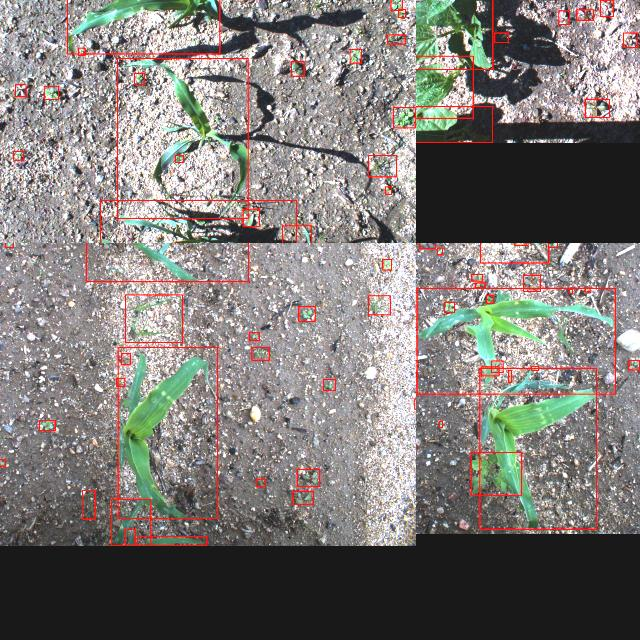crop: (417, 287, 615, 393), (118, 58, 248, 218), (479, 367, 596, 529), (118, 347, 218, 518), (100, 199, 296, 243), (66, 0, 219, 53), (86, 243, 248, 281), (416, 0, 492, 69), (416, 56, 473, 118), (416, 106, 492, 142), (111, 499, 151, 545), (480, 243, 548, 262), (137, 536, 207, 546), (282, 225, 311, 243), (125, 529, 135, 545)
weed: (126, 294, 182, 342), (471, 452, 522, 494), (368, 155, 396, 177), (393, 106, 415, 128), (585, 99, 609, 117), (296, 468, 320, 486), (82, 489, 96, 518), (368, 296, 390, 314), (242, 208, 260, 226), (293, 491, 313, 504), (524, 274, 540, 290), (600, 0, 614, 16), (624, 32, 638, 48), (299, 306, 315, 320), (252, 346, 268, 359), (292, 60, 304, 76), (44, 85, 58, 98), (387, 34, 405, 44), (576, 9, 594, 19), (481, 366, 499, 376), (350, 48, 362, 62), (558, 10, 570, 24), (39, 420, 55, 430), (494, 32, 508, 42), (16, 84, 27, 96), (323, 378, 335, 389), (134, 72, 144, 84), (382, 258, 392, 270), (492, 360, 502, 372), (628, 360, 640, 370), (14, 150, 24, 160), (444, 302, 454, 312), (391, 0, 402, 9), (122, 352, 130, 363), (249, 332, 259, 340), (256, 478, 266, 486), (420, 243, 436, 248), (398, 9, 406, 17), (175, 154, 183, 162), (117, 378, 125, 386), (486, 294, 494, 302), (472, 274, 482, 280), (386, 186, 392, 194), (474, 282, 486, 286), (508, 370, 512, 382), (78, 48, 85, 54), (0, 458, 6, 465), (5, 243, 13, 247), (438, 246, 442, 254), (531, 366, 539, 370), (548, 243, 557, 246), (414, 398, 416, 408), (586, 287, 590, 291), (440, 421, 442, 427), (570, 288, 572, 292)
